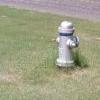a fire hydrant: (55, 22, 80, 67)
